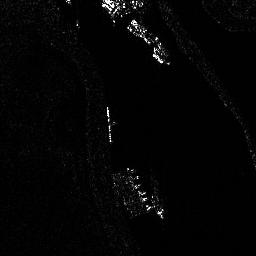ship: (104, 104, 115, 144), (149, 191, 164, 220)
